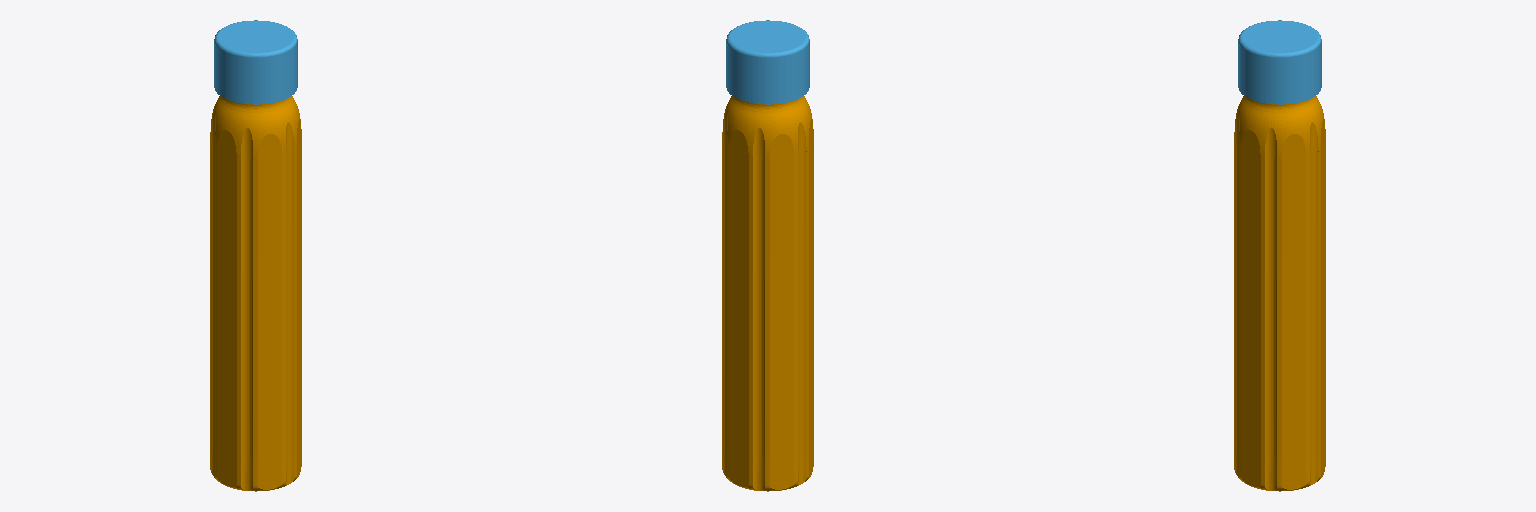
robot.urdf — water_bottle02:
<?xml version="1.0" ?>
<robot name="water_bottle02">

<material name="purple blue 01">
  <color rgba="0.47 0.32 0.66 1.000"/>
</material>

<material name="purple blue 02">
  <color rgba="0.47 0.32 0.66 0.9"/>
</material>

<link name="base_link">
  <inertial>
    <origin xyz="5.009931207004187e-07 -1.4667589132518843e-07 0.1147607624331736" rpy="0 0 0"/>
    <mass value="3.3357948118780234"/>
    <inertia ixx="0.015103644001073752" iyy="0.015103622037953762" izz="0.000973431537889193" ixy="8.530316628479419e-09" iyz="-7.847796005427423e-09" ixz="1.7990889735487536e-08"/>
  </inertial>
  <visual>
    <origin xyz="0 0 0" rpy="0 0 0"/>
    <geometry>
      <mesh filename="meshes/base_link.stl" scale="0.001 0.001 0.001"/>
    </geometry>
    <material name="purple blue 02"/>
    <material/>
  </visual>
  <collision>
    <origin xyz="0 0 0" rpy="0 0 0"/>
    <geometry>
      <mesh filename="meshes/base_link.stl" scale="0.001 0.001 0.001"/>
    </geometry>
     <contact>
    <soft_cfm value="0.0"/>
      <soft_erp value="0.2"/>
  </contact>
  </collision>
</link>

<link name="cap1">
  <inertial>
    <origin xyz="2.0429340606851415e-17 0.0 0.015045678419924796" rpy="0 0 0"/>
    <mass value="1.3822377244708834"/>
    <inertia ixx="7.7962097677374e-05" iyy="7.796209767737747e-05" izz="9.822237710753439e-05" ixy="0.0" iyz="1.5617729332007002e-19" ixz="-4.383924630603961e-20"/>
  </inertial>
  <visual>
    <origin xyz="-0.0 -0.0 -0.233626" rpy="0 0 0"/>
    <geometry>
      <mesh filename="meshes/cap1.stl" scale="0.001 0.001 0.001"/>
    </geometry>
    <material name="purple blue 01"/>
    <material/>
  </visual>
  <collision>
    <origin xyz="-0.0 -0.0 -0.233626" rpy="0 0 0"/>
    <geometry>
      <mesh filename="meshes/cap1.stl" scale="0.001 0.001 0.001"/>
    </geometry>
     <contact>
    <soft_cfm value="0.0"/>
      <soft_erp value="0.2"/>
  </contact>
  </collision>
</link>

<joint name="Rigid_1" type="fixed">
  <origin xyz="0.0 0.0 0.233626" rpy="0 0 0"/>
  <parent link="base_link"/>
  <child link="cap1"/>
</joint>

</robot>

--- Facts derived from the render (not from the file) ---
Views: 3 orthographic renders of the robot side by side, from view 1: azimuth 30°, elevation 25°; view 2: azimuth 150°, elevation 25°; view 3: azimuth 270°, elevation 25°.
Robot: water_bottle02 — 2 links, 1 joints (1 fixed); root link base_link; default pose: every joint at zero.
Visible links, largest first — view 1: base_link, cap1; view 2: base_link, cap1; view 3: base_link, cap1.
Boxes of the visible links, <box> form: base_link: <box>210,96,301,491</box>; cap1: <box>214,20,297,104</box>; base_link: <box>722,96,813,491</box>; cap1: <box>726,20,809,104</box>; base_link: <box>1234,96,1325,491</box>; cap1: <box>1238,20,1321,104</box>.
Size in the robot's own frame: 0.05 by 0.0498 by 0.2638 metres.
2 mesh visuals loaded from 2 distinct referenced files (2 binary STL).